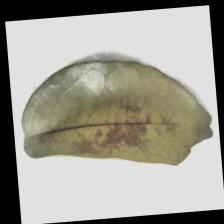black spot: (54, 96, 173, 164)
